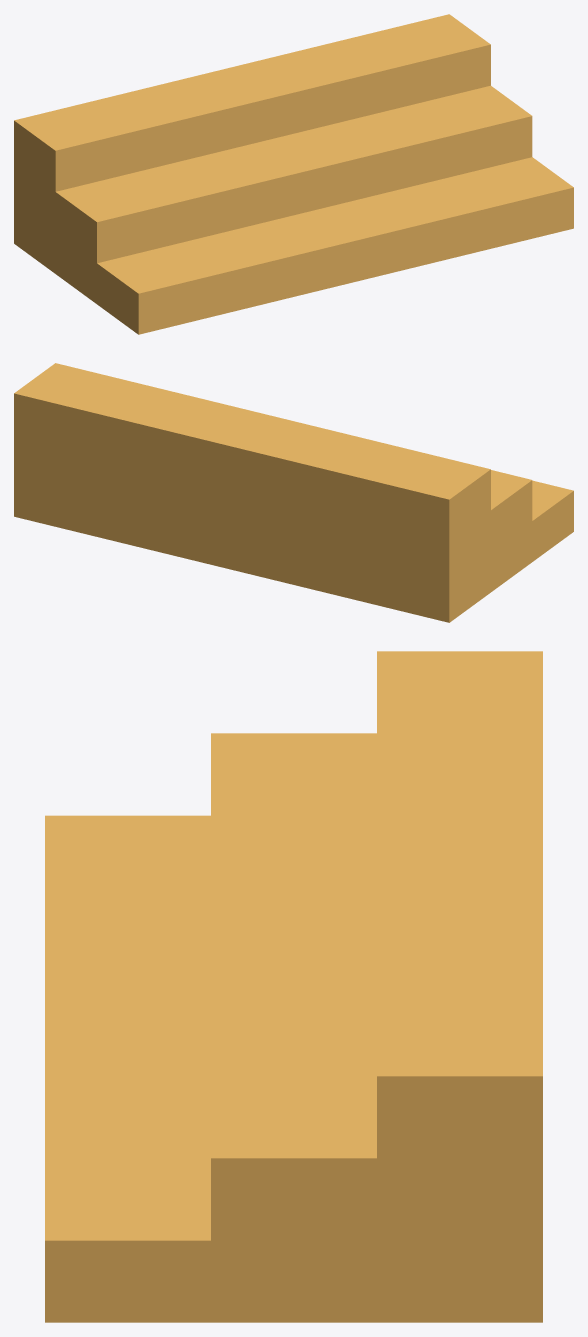
The model's file is Stairs_025.glb.
The picture shows the model from 3 angles, top to bottom: view 1: azimuth 30°, elevation 25°; view 2: azimuth 150°, elevation 25°; view 3: azimuth 270°, elevation 25°; orthographic projection. The views are drawn at different scales.
Visible parts, largest first — view 1: Stairs_025; view 2: Stairs_025; view 3: Stairs_025.
Part boxes in pixels (box(x1,y1,x2,y2)): Stairs_025: box(14, 14, 573, 334); Stairs_025: box(14, 363, 573, 622); Stairs_025: box(45, 651, 542, 1322).
Bounding box in the file's own units: 1.62 × 0.4382 × 0.8027.
1 material, 1 textured.
